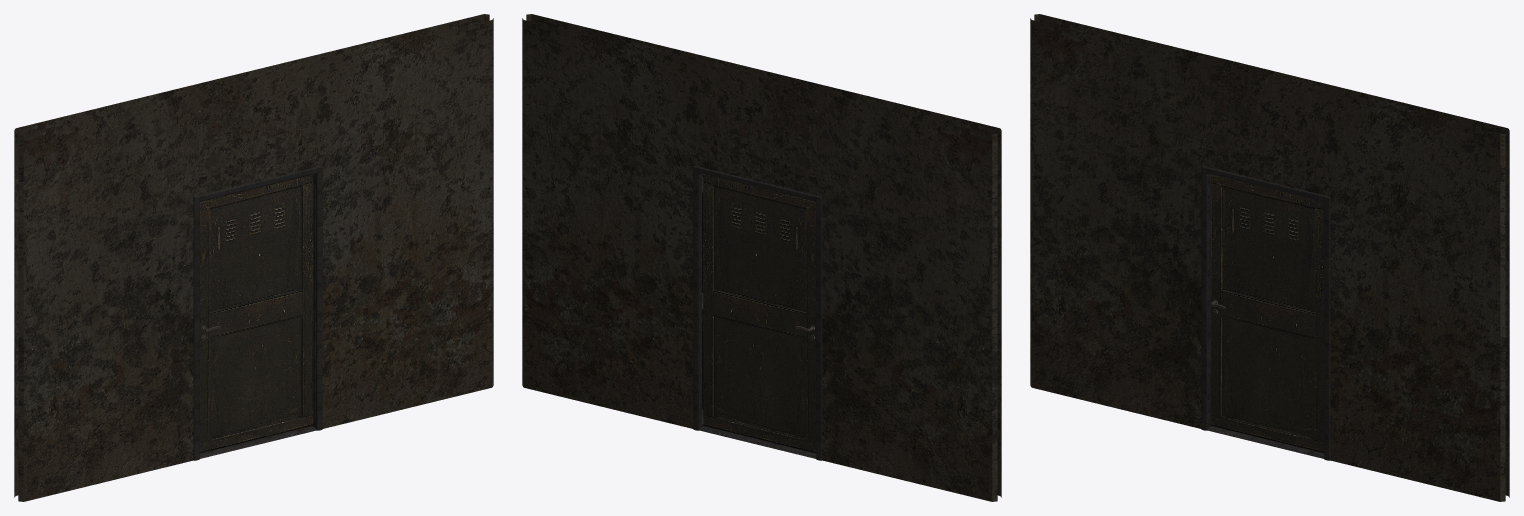
File: doorway_4_plain.glb
3 views of the same model, side by side, from view 1: azimuth 30°, elevation 25°; view 2: azimuth 150°, elevation 25°; view 3: azimuth 330°, elevation 25° (orthographic).
Parts seen in each view (by area): view 1: doorway_4_plain, door_8; view 2: doorway_4_plain, door_8; view 3: doorway_4_plain, door_8.
Part boxes in pixels (x1,y1,x2,y2): doorway_4_plain: (14, 14, 493, 501); door_8: (200, 174, 313, 453); doorway_4_plain: (522, 14, 1001, 501); door_8: (700, 174, 816, 453); doorway_4_plain: (1030, 14, 1509, 501); door_8: (1210, 174, 1323, 453).
Size of the model in its own units: 4.06 by 3 by 0.18.
Materials: 6 (6 with a texture image).
